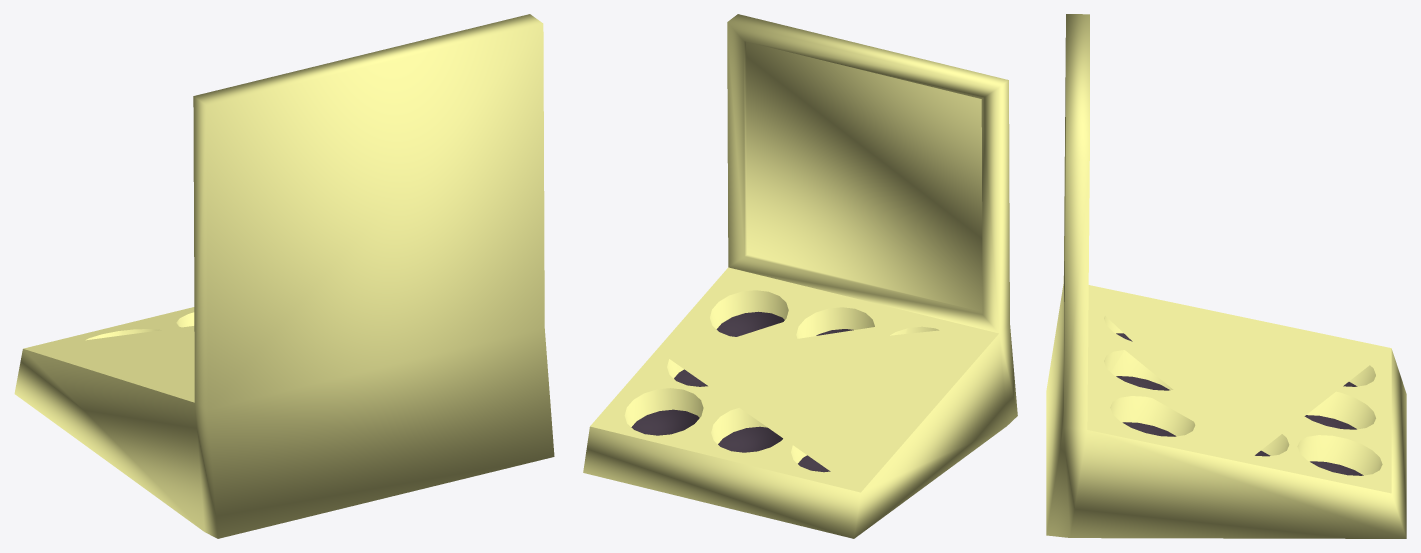
Rendered from arcadeMoleMachine.fbx.
3 views of the same model, side by side, from view 1: azimuth 30°, elevation 25°; view 2: azimuth 150°, elevation 25°; view 3: azimuth 270°, elevation 25° (orthographic). The views are drawn at different scales.
Visible parts, largest first — view 1: Cube; view 2: Cube; view 3: Cube.
Boxes of the visible parts, bbox=[...] form: Cube: bbox=[14, 14, 554, 538]; Cube: bbox=[583, 14, 1017, 538]; Cube: bbox=[1046, 14, 1406, 538].
Bounding box in the file's own units: 893 × 1088 × 935.
